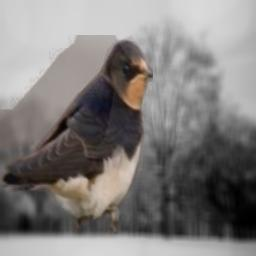Swallow: (0, 35, 153, 234)
